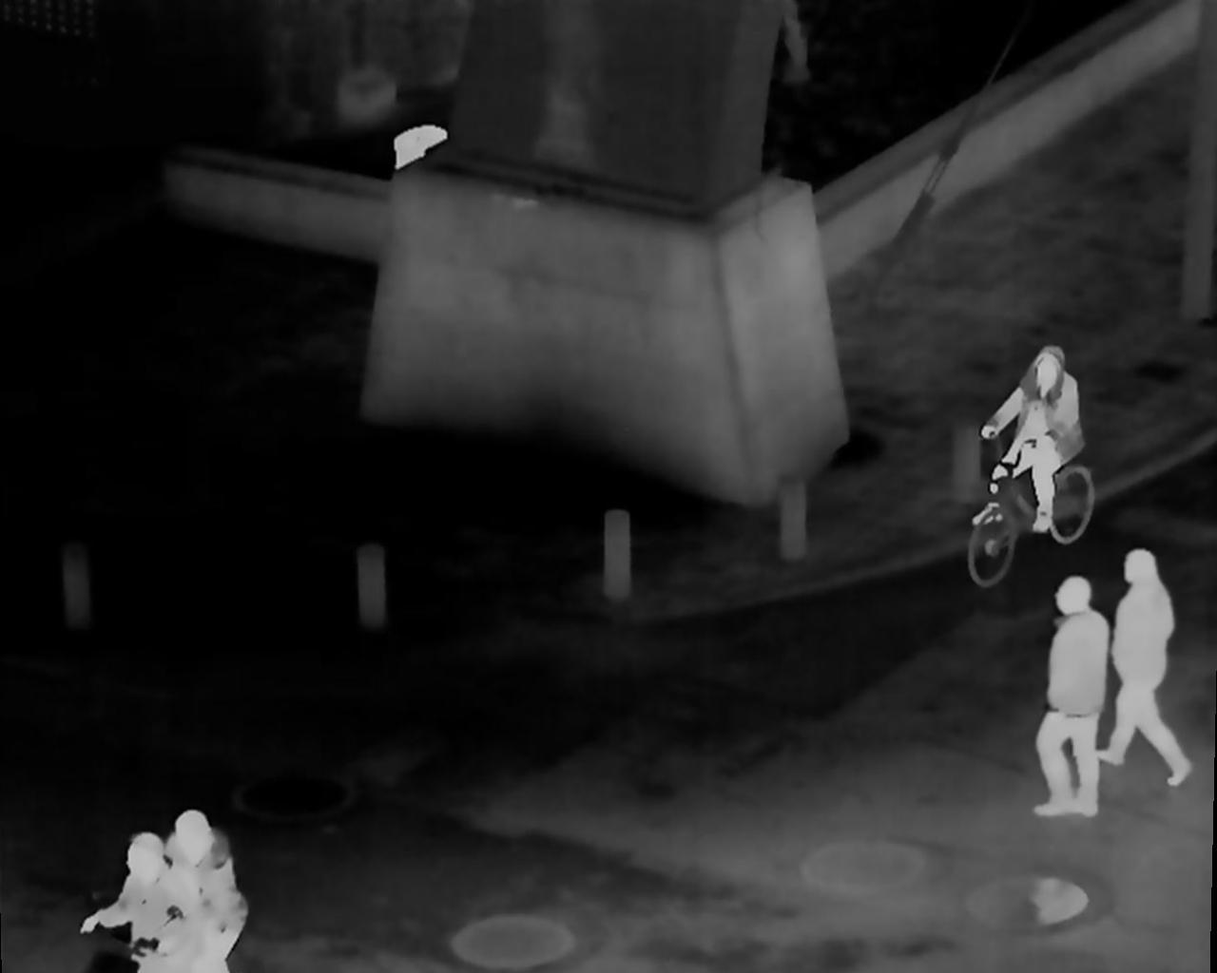person: (1102, 544, 1199, 789), (1033, 575, 1111, 814), (979, 344, 1080, 515), (168, 810, 243, 973), (103, 841, 188, 973)
